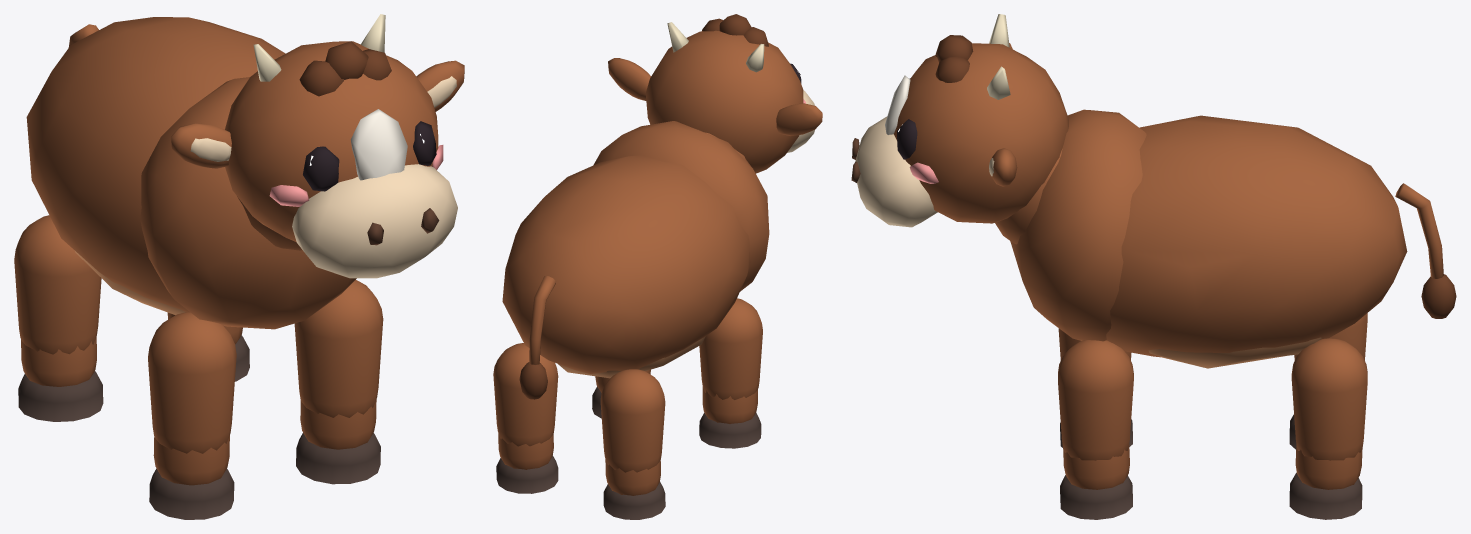
The model's file is animal_cattle.glb.
The picture shows the model from 3 angles, left to right: view 1: azimuth 30°, elevation 25°; view 2: azimuth 150°, elevation 25°; view 3: azimuth 270°, elevation 25°; orthographic projection. The views are drawn at different scales.
Visible parts, largest first — view 1: body_body, head_body, thigh, thigh.001, thigh.002, knee_BR_body, knee_FL_body, knee_FR_body, ear_R_body, ear_L_body, knee_BL_body, neck.001; view 2: body_body, head_body, thigh.002, thigh, thigh.003, knee_FR_body, knee_BR_body, knee_BL_body, tail_body, ear_R_body, ear_L_body, knee_FL_body; view 3: body_body, head_body, thigh.003, thigh.001, knee_BL_body, knee_FL_body, tail_body, neck.001, ear_L_body, thigh.002.
Boxes of the visible parts, bbox=[...] form: body_body: bbox=[26, 17, 356, 329]; head_body: bbox=[225, 14, 457, 278]; thigh: bbox=[148, 312, 236, 453]; thigh.001: bbox=[294, 280, 383, 417]; thigh.002: bbox=[14, 215, 101, 354]; knee_BR_body: bbox=[18, 336, 103, 421]; knee_FL_body: bbox=[296, 399, 380, 484]; knee_FR_body: bbox=[149, 435, 234, 519]; ear_R_body: bbox=[171, 123, 231, 168]; ear_L_body: bbox=[416, 60, 464, 111]; knee_BL_body: bbox=[167, 312, 249, 381]; neck.001: bbox=[237, 196, 302, 250]; body_body: bbox=[502, 121, 769, 378]; head_body: bbox=[645, 14, 814, 173]; thigh.002: bbox=[600, 369, 665, 472]; thigh: bbox=[699, 298, 762, 399]; thigh.003: bbox=[493, 343, 558, 446]; knee_FR_body: bbox=[699, 387, 761, 448]; knee_BR_body: bbox=[603, 459, 665, 519]; knee_BL_body: bbox=[496, 433, 558, 493]; tail_body: bbox=[519, 276, 556, 399]; ear_R_body: bbox=[776, 103, 822, 135]; ear_L_body: bbox=[608, 58, 650, 100]; knee_FL_body: bbox=[592, 369, 650, 418]; body_body: bbox=[1010, 109, 1407, 368]; head_body: bbox=[851, 14, 1068, 227]; thigh.003: bbox=[1291, 338, 1367, 460]; thigh.001: bbox=[1058, 340, 1133, 460]; knee_BL_body: bbox=[1289, 445, 1362, 519]; knee_FL_body: bbox=[1060, 445, 1132, 519]; tail_body: bbox=[1395, 183, 1456, 318]; neck.001: bbox=[995, 149, 1062, 244]; ear_L_body: bbox=[989, 148, 1017, 186]; thigh.002: bbox=[1294, 313, 1367, 360].
Size of the model in its own units: 0.7613 by 1.24 by 1.55.
